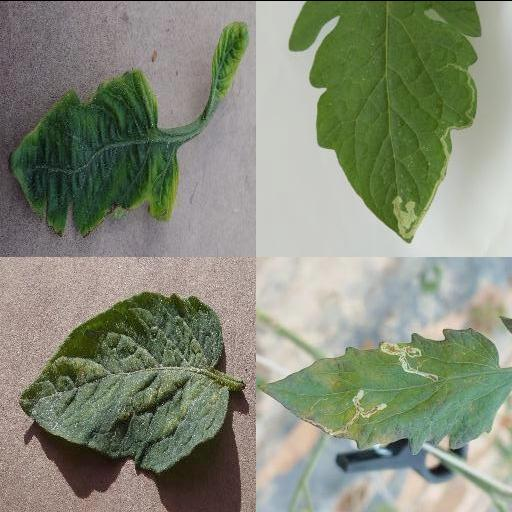Leaf Miner: (288, 0, 482, 244), (257, 326, 512, 455)
Spider Mites: (19, 290, 229, 470)
Yellow Leaf Curl Virus: (9, 67, 181, 237), (208, 20, 250, 98)
